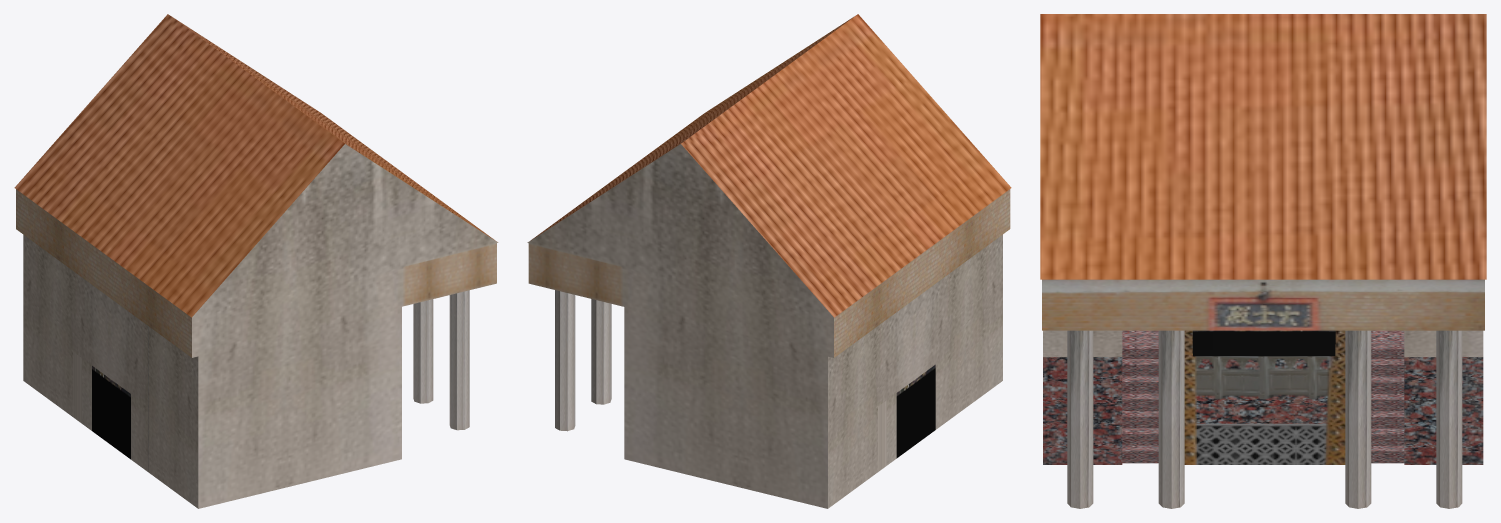
File: dashi.fbx
The picture shows the model from 3 angles, left to right: view 1: azimuth 30°, elevation 25°; view 2: azimuth 150°, elevation 25°; view 3: azimuth 270°, elevation 25°; orthographic projection. The views are drawn at different scales.
Visible parts, largest first — view 1: pCube2, pCube5, pCube1, pCube3, pCube6, pCube4, pCylinder1, pCylinder3; view 2: pCube2, pCube4, pCube1, pCube3, pCube6, pCube5, pCylinder4, pCylinder2; view 3: pCube2, pCube1, pCube3, pCube4, pCube5, pCube14, pCylinder1, pCylinder4, pCylinder2, pCylinder3, pCube15.
Part boxes in pixels (x1,y1,x2,y2): pCube2: [14, 14, 498, 317]; pCube5: [167, 307, 401, 508]; pCube1: [16, 189, 496, 357]; pCube3: [73, 271, 148, 471]; pCube6: [54, 258, 166, 485]; pCube4: [23, 235, 54, 403]; pCylinder1: [449, 290, 469, 430]; pCylinder3: [413, 299, 433, 403]; pCube2: [527, 14, 1011, 317]; pCube4: [624, 307, 859, 508]; pCube1: [528, 189, 1010, 357]; pCube3: [878, 271, 952, 471]; pCube6: [859, 257, 971, 485]; pCube5: [971, 234, 1002, 403]; pCylinder4: [555, 290, 575, 431]; pCylinder2: [591, 299, 611, 404]; pCube2: [1040, 14, 1486, 279]; pCube1: [1042, 279, 1484, 330]; pCube3: [1184, 330, 1345, 464]; pCube4: [1404, 330, 1483, 464]; pCube5: [1043, 330, 1122, 464]; pCube14: [1122, 330, 1158, 463]; pCylinder1: [1067, 330, 1093, 508]; pCylinder4: [1436, 330, 1462, 508]; pCylinder2: [1345, 330, 1371, 508]; pCylinder3: [1158, 330, 1184, 508]; pCube15: [1371, 330, 1404, 463].
Size of the model in its own units: 34.02 by 34.99 by 34.05.
Materials: 1 (1 with a texture image).
